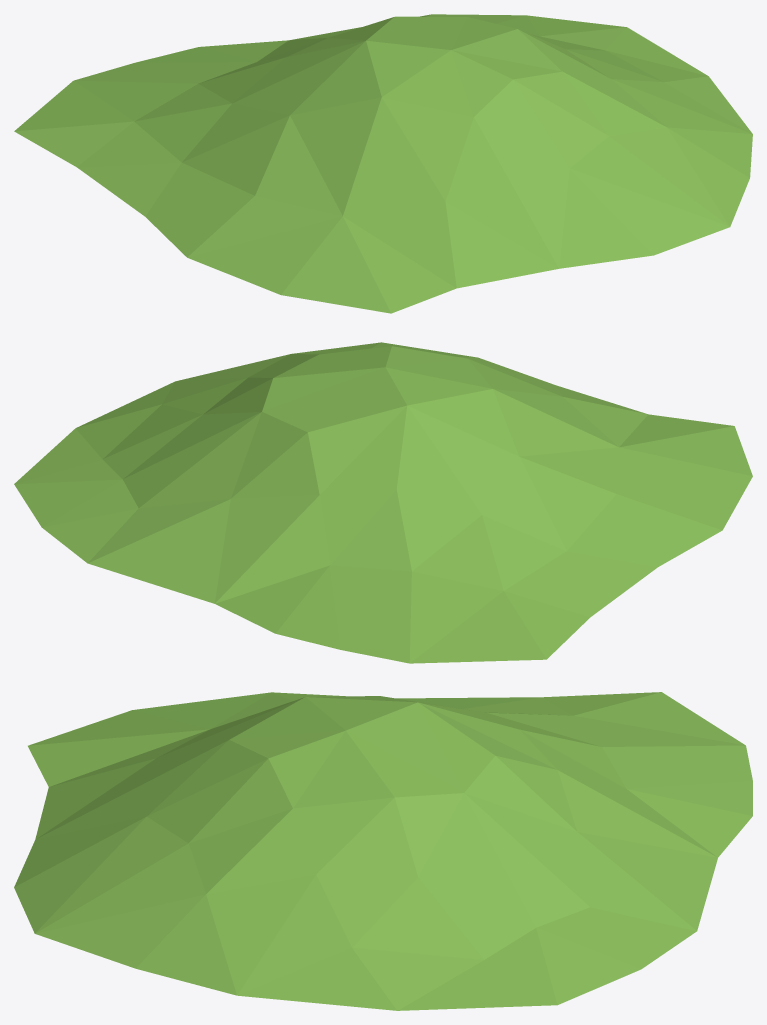
The model's file is MT_Mountain_S_a_09_LOD.fbx.
The picture shows the model from 3 angles, top to bottom: view 1: azimuth 30°, elevation 25°; view 2: azimuth 150°, elevation 25°; view 3: azimuth 270°, elevation 25°; orthographic projection. The views are drawn at different scales.
Parts seen in each view (by area): view 1: MT_Mountain_S_a_09_LOD0; view 2: MT_Mountain_S_a_09_LOD0; view 3: MT_Mountain_S_a_09_LOD0.
Boxes of the visible parts, x1,y1,x2,y2 form: MT_Mountain_S_a_09_LOD0: (14, 14, 752, 313); MT_Mountain_S_a_09_LOD0: (14, 342, 752, 663); MT_Mountain_S_a_09_LOD0: (14, 692, 752, 1010).
Size of what is drawn, in the model's own units: 2318 by 428 by 2272.
